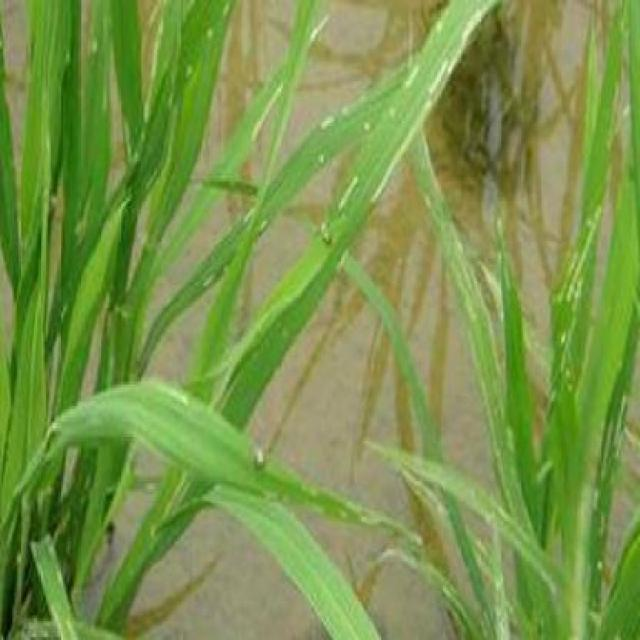rice-bug: (318, 212, 334, 246), (253, 447, 269, 471)
